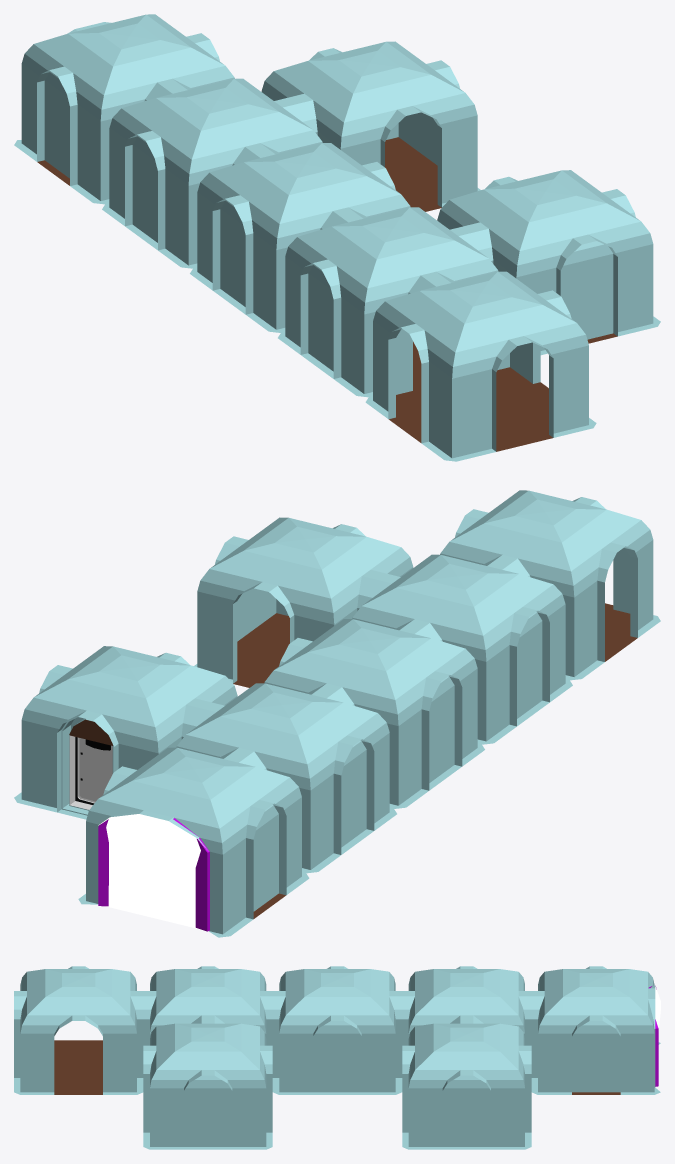
The model's file is maze_module v2.fbx.
The picture shows the model from 3 angles, top to bottom: view 1: azimuth 30°, elevation 25°; view 2: azimuth 150°, elevation 25°; view 3: azimuth 270°, elevation 25°; orthographic projection. The views are drawn at different scales.
Visible parts, largest first — view 1: cross, turn, finish, tries, loop, tunel, start; view 2: start, finish, turn, tries, tunel, loop, cross; view 3: tunel, turn, finish, start, cross, loop, tries.
Boxes of the visible parts, x1,y1,x2,y2 form: cross: (365, 271, 596, 461); turn: (437, 170, 660, 355); finish: (261, 41, 480, 211); tries: (278, 207, 498, 397); loop: (102, 78, 322, 268); tunel: (190, 143, 410, 332); start: (14, 14, 234, 204); start: (78, 747, 309, 937); finish: (14, 646, 237, 819); turn: (194, 517, 413, 687); tries: (352, 554, 572, 744); tunel: (264, 619, 484, 808); loop: (176, 683, 396, 873); cross: (440, 490, 660, 680); tunel: (272, 966, 402, 1094); turn: (143, 1021, 272, 1149); finish: (402, 1021, 531, 1149); start: (531, 966, 660, 1094); cross: (14, 966, 143, 1094); loop: (402, 966, 531, 1045); tries: (143, 966, 272, 1045).
Bounding box in the file's own units: 800 × 300 × 2000.
